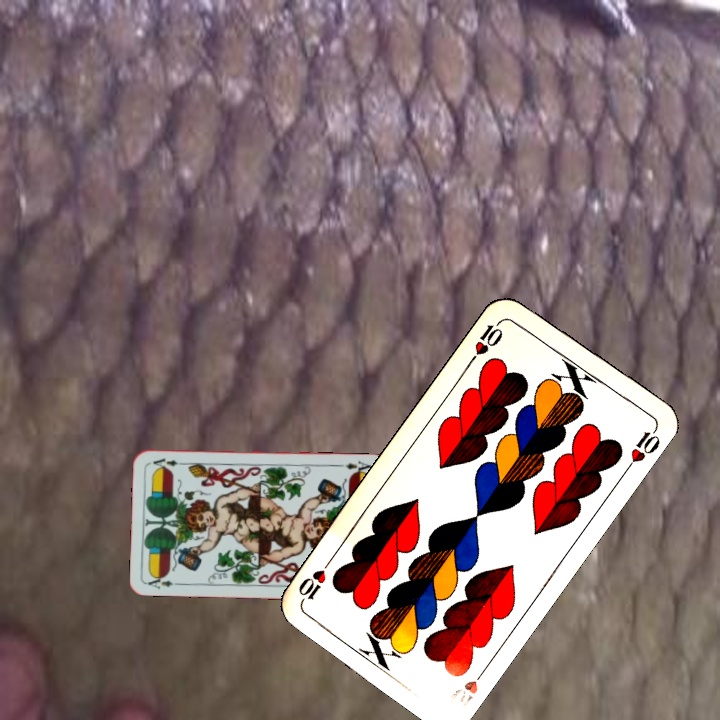EA: (336, 457, 376, 476), (144, 572, 184, 591)
H10: (445, 661, 491, 709), (465, 315, 506, 366)
